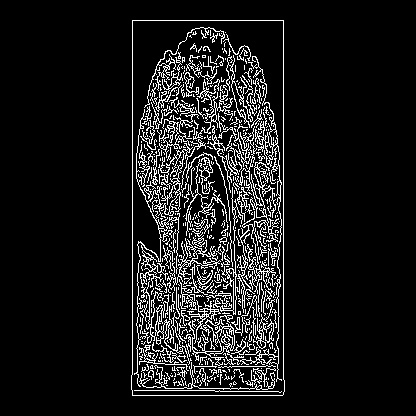buddha-sitting: (179, 156, 234, 313)
